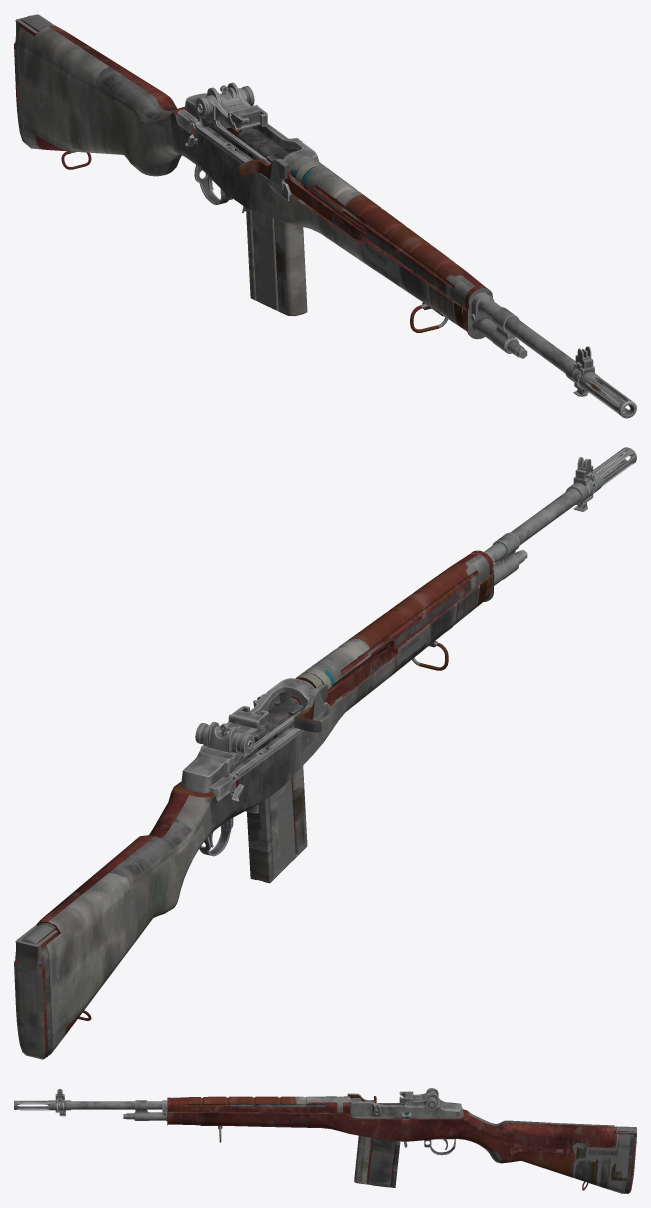
3 renders of one model, top to bottom at view 1: azimuth 30°, elevation 25°; view 2: azimuth 150°, elevation 25°; view 3: azimuth 270°, elevation 25°, orthographic. The views are drawn at different scales.
Visible parts, largest first — view 1: Body_Red, Body_Blue, Magazine; view 2: Body_Red, Body_Blue, Magazine; view 3: Body_Red, Body_Blue, Magazine.
Boxes of the visible parts, bbox=[...] form: Body_Red: bbox=[14, 14, 492, 339]; Body_Blue: bbox=[177, 82, 636, 418]; Magazine: bbox=[246, 208, 307, 316]; Body_Red: bbox=[14, 550, 493, 1059]; Body_Blue: bbox=[181, 447, 636, 856]; Magazine: bbox=[247, 742, 307, 883]; Body_Red: bbox=[167, 1093, 636, 1193]; Body_Blue: bbox=[14, 1088, 463, 1155]; Magazine: bbox=[354, 1135, 400, 1187].
Bounding box in the file's own units: 0.072 × 0.202 × 1.12.
2 materials, 2 textured.
